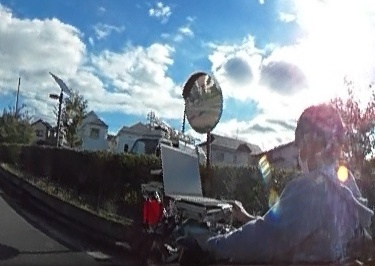person: (202, 102, 354, 265)
